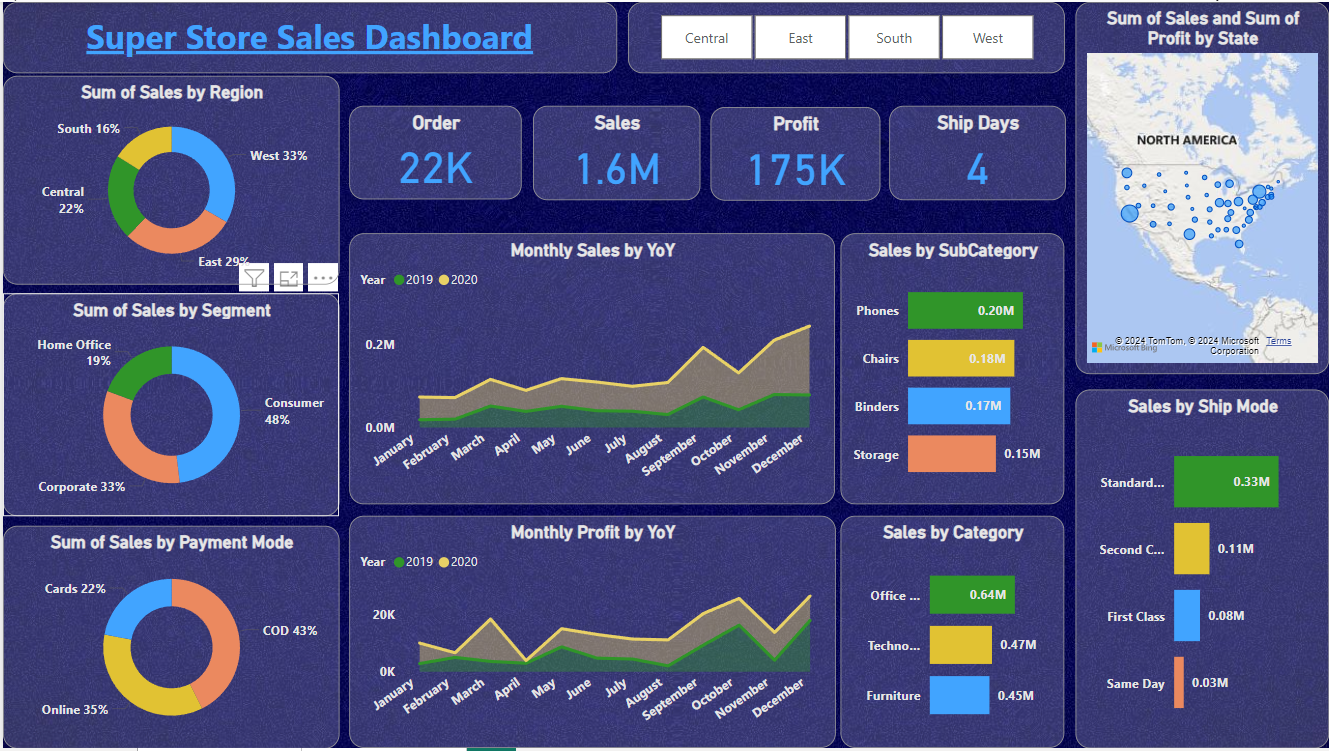

The dashboard page shown, as its layout file describes it:
{"tool":"powerbi","page":{"name":"Store Dashboard","canvas":[1280,720],"ordinal":0},"visuals":[{"type":"clusteredBarChart","title":"Sales by Category","fields":{"Category":["SuperStore_Sales_Dataset - Copy.Category"],"Y":["Sum(SuperStore_Sales_Dataset - Copy.Sales)"]},"box":[808.8,496.2,216.2,223.8],"z":0},{"type":"clusteredBarChart","title":"Sales by SubCategory","fields":{"Category":["SuperStore_Sales_Dataset - Copy.Sub-Category"],"Y":["Sum(SuperStore_Sales_Dataset - Copy.Sales)"]},"box":[808.8,223.8,216.2,261.2],"z":1000},{"type":"clusteredBarChart","title":"Sales by Ship Mode","fields":{"Category":["SuperStore_Sales_Dataset - Copy.Ship Mode"],"Y":["Sum(SuperStore_Sales_Dataset - Copy.Sales)"]},"box":[1035,373.8,245,346.2],"z":2000},{"type":"stackedAreaChart","title":"Monthly Sales by YoY","fields":{"Category":["SuperStore_Sales_Dataset - Copy.Order Date.Variation.Date Hierarchy.Month"],"Y":["Sum(SuperStore_Sales_Dataset - Copy.Sales)"],"Series":["SuperStore_Sales_Dataset - Copy.Order Date.Variation.Date Hierarchy.Year"]},"box":[333.8,223.8,468.8,261.2],"z":3000},{"type":"stackedAreaChart","title":"Monthly Profit by YoY","fields":{"Category":["SuperStore_Sales_Dataset - Copy.Order Date.Variation.Date Hierarchy.Month"],"Series":["SuperStore_Sales_Dataset - Copy.Order Date.Variation.Date Hierarchy.Year"],"Y":["Sum(SuperStore_Sales_Dataset - Copy.Profit)"]},"box":[334.2,495.8,469.3,224.4],"z":4000},{"type":"map","fields":{"Category":["SuperStore_Sales_Dataset - Copy.State"],"Size":["Sum(SuperStore_Sales_Dataset - Copy.Sales)"]},"box":[1035.1,0,244.9,359.5],"z":5000},{"type":"donutChart","fields":{"Category":["SuperStore_Sales_Dataset - Copy.Segment"],"Y":["Sum(SuperStore_Sales_Dataset - Copy.Sales)"]},"box":[0,281.2,325,215],"z":6000},{"type":"donutChart","fields":{"Category":["SuperStore_Sales_Dataset - Copy.Payment Mode"],"Y":["Sum(SuperStore_Sales_Dataset - Copy.Sales)"]},"box":[0,505,325,215],"z":7000},{"type":"slicer","fields":{"Values":["SuperStore_Sales_Dataset - Copy.Region"]},"box":[603.8,0,421.2,68.8],"z":8000},{"type":"textbox","box":[0,0,592.5,68.8],"z":9000},{"type":"card","title":"Order","fields":{"Values":["Sum(SuperStore_Sales_Dataset - Copy.Quantity)"]},"box":[333.8,100,166.2,90],"z":11000},{"type":"card","title":"Profit","fields":{"Values":["Sum(SuperStore_Sales_Dataset - Copy.Profit)"]},"box":[682.5,101.2,163.8,90],"z":12000},{"type":"card","title":"Sales","fields":{"Values":["Sum(SuperStore_Sales_Dataset - Copy.Sales)"]},"box":[511.2,100,161.2,91.2],"z":13000},{"type":"card","title":"Ship Days","fields":{"Values":["Avg(SuperStore_Sales_Dataset - Copy.AvgDelivery)"]},"box":[855,100,170,91.2],"z":14000},{"type":"donutChart","fields":{"Category":["SuperStore_Sales_Dataset - Copy.Region"],"Y":["Sum(SuperStore_Sales_Dataset - Copy.Sales)"]},"box":[0,71.2,325,201.2],"z":15000}]}

Visuals, with their boxes in screenshot pixels (x1, y1, x2, y2), scaled from the page's 1280x720 canvas onto the 1329x751 screenshot:
"Sales by Category" clusteredBarChart: <box>840,518,1064,750</box>
"Sales by SubCategory" clusteredBarChart: <box>840,233,1064,506</box>
"Sales by Ship Mode" clusteredBarChart: <box>1075,390,1328,750</box>
"Monthly Sales by YoY" stackedAreaChart: <box>347,233,833,506</box>
"Monthly Profit by YoY" stackedAreaChart: <box>347,517,834,750</box>
map - SuperStore_Sales_Dataset - Copy.State x Sum(SuperStore_Sales_Dataset - Copy.Sales): <box>1075,0,1328,375</box>
donutChart - SuperStore_Sales_Dataset - Copy.Segment x Sum(SuperStore_Sales_Dataset - Copy.Sales): <box>0,293,337,518</box>
donutChart - SuperStore_Sales_Dataset - Copy.Payment Mode x Sum(SuperStore_Sales_Dataset - Copy.Sales): <box>0,527,337,750</box>
slicer - SuperStore_Sales_Dataset - Copy.Region: <box>627,0,1064,72</box>
textbox: <box>0,0,615,72</box>
"Order" card: <box>347,104,519,198</box>
"Profit" card: <box>709,106,879,199</box>
"Sales" card: <box>531,104,698,199</box>
"Ship Days" card: <box>888,104,1064,199</box>
donutChart - SuperStore_Sales_Dataset - Copy.Region x Sum(SuperStore_Sales_Dataset - Copy.Sales): <box>0,74,337,284</box>
